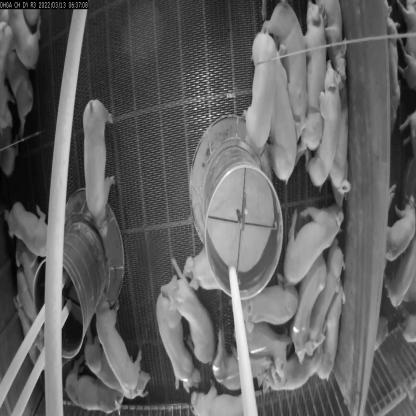Pig: (280, 194, 342, 281), (264, 2, 305, 127), (78, 98, 118, 221), (96, 304, 145, 398), (258, 44, 288, 186), (242, 24, 272, 159), (314, 67, 345, 196), (256, 348, 330, 402), (172, 281, 213, 377), (160, 293, 198, 383), (304, 13, 327, 156), (11, 198, 55, 266), (59, 373, 122, 415), (84, 348, 132, 399), (238, 276, 291, 322), (290, 270, 320, 349), (327, 301, 349, 387), (197, 389, 254, 415), (323, 244, 337, 326)
